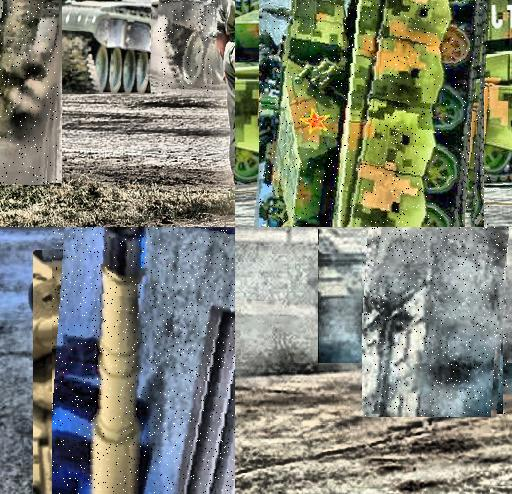tanks: (260, 1, 486, 228), (363, 228, 509, 418), (100, 228, 145, 494), (1, 4, 59, 185), (159, 1, 215, 92)
